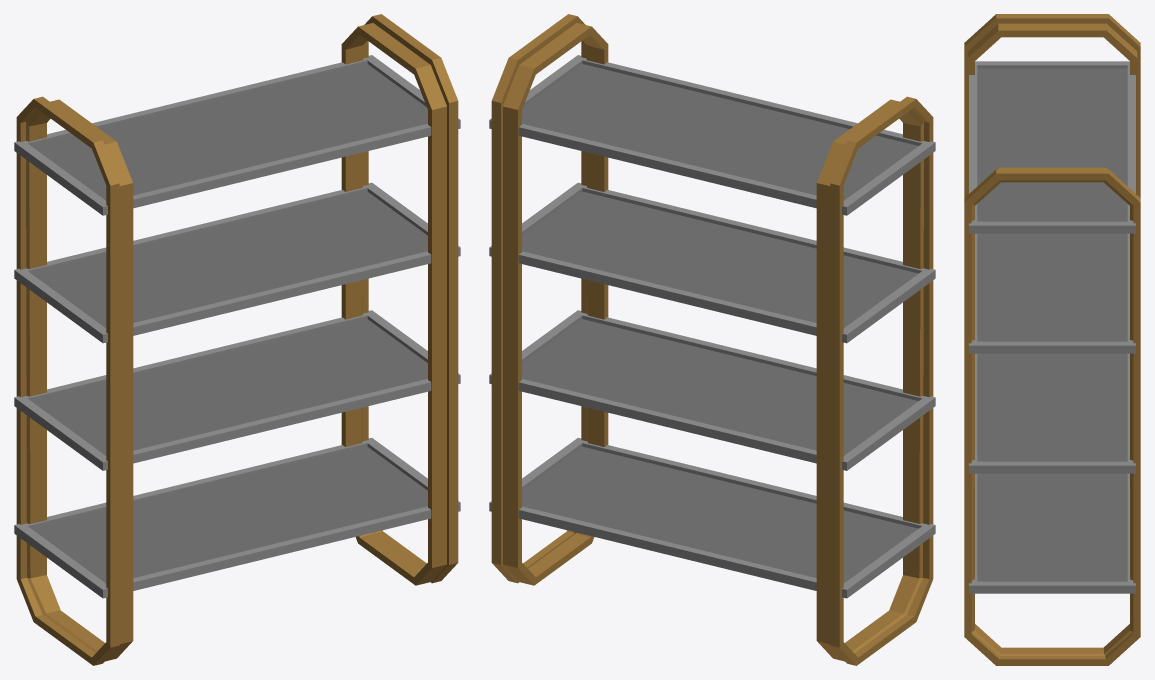
Rendered from shelf.glb.
3 renders of one model, left to right at view 1: azimuth 30°, elevation 25°; view 2: azimuth 150°, elevation 25°; view 3: azimuth 270°, elevation 25°, orthographic. The views are drawn at different scales.
Visible parts, largest first — view 1: Props_Shelf; view 2: Props_Shelf; view 3: Props_Shelf.
Boxes of the visible parts, <box> form: Props_Shelf: <box>14,14,460,665</box>; Props_Shelf: <box>489,14,935,665</box>; Props_Shelf: <box>964,14,1140,665</box>.
Bounding box in the file's own units: 1.79 × 2.5 × 0.8108.
